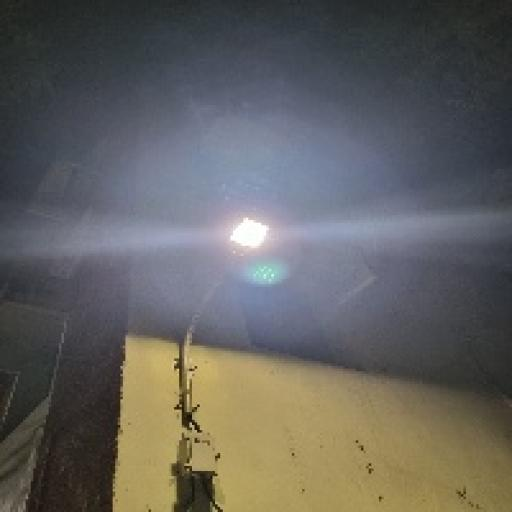Working: (215, 210, 280, 261)
